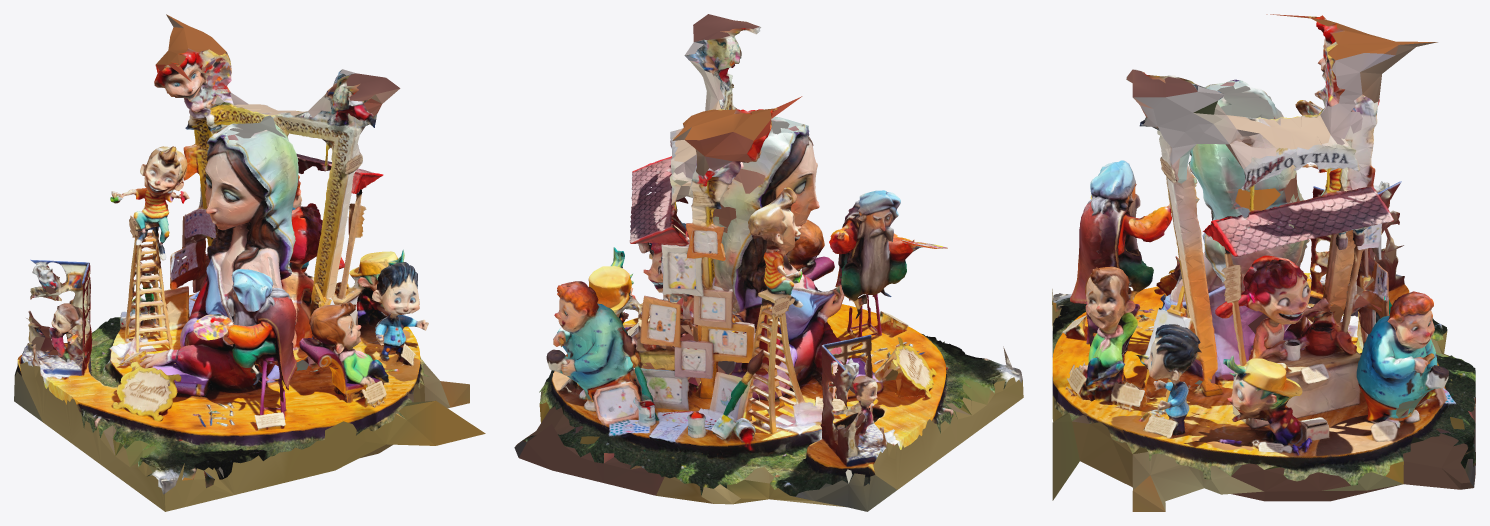
File: falla_infantil_segrelles_2024_-_test_small_ULTRA_30_30.glb
3 renders of one model, left to right at view 1: azimuth 30°, elevation 25°; view 2: azimuth 150°, elevation 25°; view 3: azimuth 270°, elevation 25°, orthographic. The views are drawn at different scales.
Size of the model in its own units: 2.94 by 2.74 by 2.79.
1 material, 1 textured.
